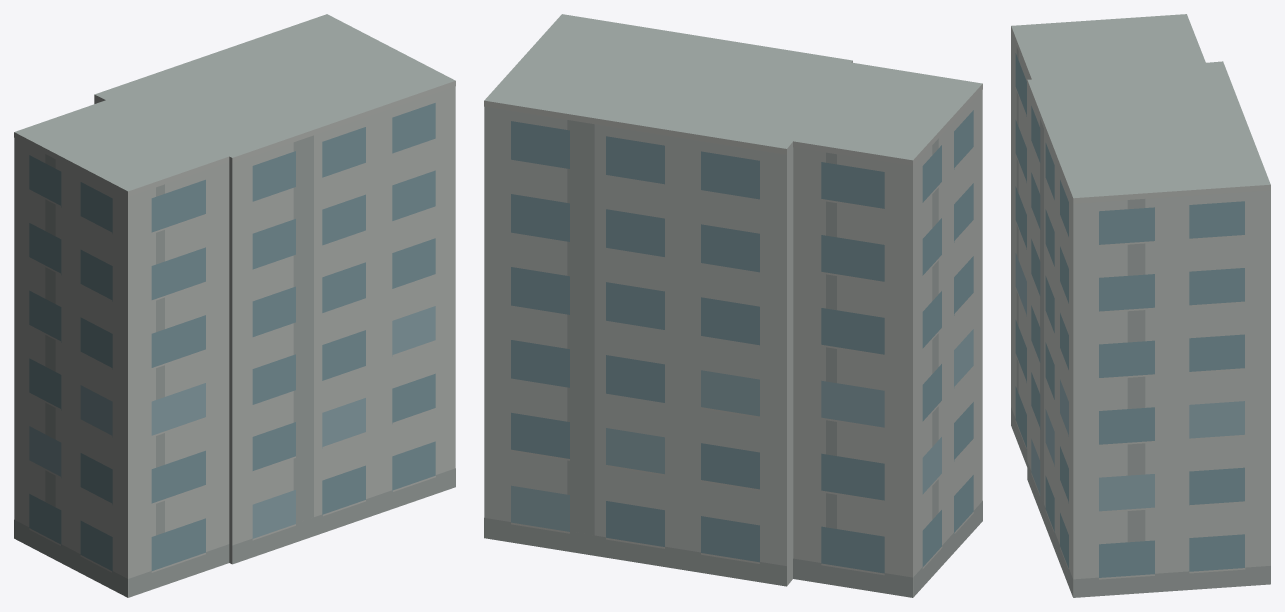
The model's file is survey-upis-32929555.glb.
3 views of the same model, side by side, from view 1: azimuth 30°, elevation 25°; view 2: azimuth 150°, elevation 25°; view 3: azimuth 270°, elevation 25° (orthographic). The views are drawn at different scales.
Parts seen in each view (by area): view 1: survey-upis-32929555.tmp; view 2: survey-upis-32929555.tmp; view 3: survey-upis-32929555.tmp.
Boxes of the visible parts, bbox=[...] form: survey-upis-32929555.tmp: bbox=[14, 14, 455, 597]; survey-upis-32929555.tmp: bbox=[484, 14, 982, 597]; survey-upis-32929555.tmp: bbox=[1011, 14, 1270, 597].
Size of the model in its own units: 17.55 by 17.75 by 10.46.
